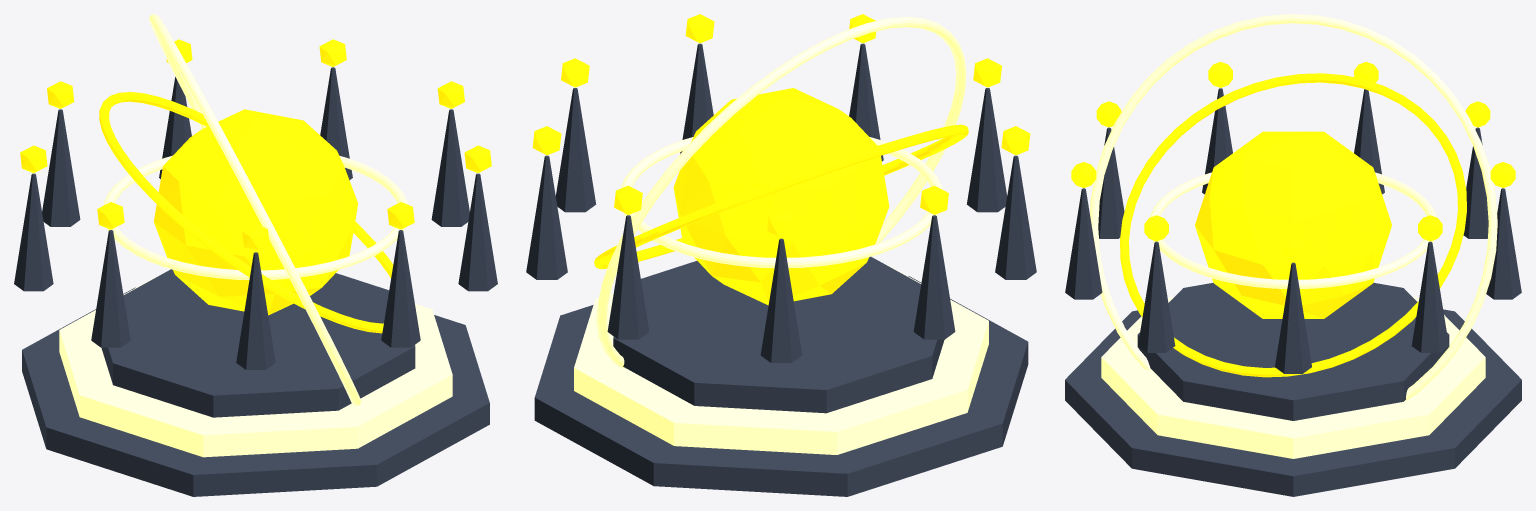
File: gpu-blender-v2.glb
3 views of the same model, side by side, from view 1: azimuth 30°, elevation 25°; view 2: azimuth 150°, elevation 25°; view 3: azimuth 270°, elevation 25° (orthographic). The views are drawn at different scales.
Visible parts, largest first — view 1: Cylinder.002, SovereignCore_producthunt-connector, Cylinder, Cylinder.001, Torus.001, Torus.002, Torus, Cone.004, Cone.008, Cone.005, Cone.007, Cone.006 (+12 smaller); view 2: Cylinder.002, SovereignCore_producthunt-connector, Cylinder, Cylinder.001, Torus.002, Torus.001, Torus, Cone.002, Cone.004, Cone, Cone.001, Cone.005 (+12 smaller); view 3: SovereignCore_producthunt-connector, Cylinder.002, Cylinder, Cylinder.001, Torus.002, Torus.001, Torus, Cone.007, Cone.001, Cone.008, Cone, Cone.002 (+10 smaller).
Boxes of the visible parts, x1,y1,x2,y2 form: Cylinder.002: (101, 269, 415, 417); SovereignCore_producthunt-connector: (153, 109, 358, 315); Cylinder: (22, 287, 489, 496); Cylinder.001: (59, 277, 452, 457); Torus.001: (99, 92, 393, 333); Torus.002: (149, 14, 361, 405); Torus: (103, 155, 408, 279); Cone.004: (14, 173, 53, 291); Cone.008: (458, 173, 497, 291); Cone.005: (91, 230, 130, 347); Cone.007: (381, 230, 420, 347); Cone.006: (236, 252, 275, 369); Cylinder.002: (613, 256, 944, 413); SovereignCore_producthunt-connector: (673, 88, 889, 305); Cylinder: (534, 276, 1028, 496); Cylinder.001: (574, 265, 988, 454); Torus.002: (596, 17, 966, 367); Torus.001: (594, 124, 968, 269); Torus: (621, 137, 942, 268); Cone.002: (607, 215, 649, 339); Cone.004: (913, 215, 955, 339); Cone: (555, 88, 596, 212); Cone.001: (526, 155, 567, 279); Cone.005: (995, 155, 1036, 279); SovereignCore_producthunt-connector: (1195, 131, 1391, 318); Cylinder.002: (1137, 282, 1449, 420); Cylinder: (1065, 309, 1521, 496); Cylinder.001: (1101, 296, 1485, 458); Torus.002: (1090, 14, 1497, 400); Torus.001: (1120, 73, 1466, 377); Torus: (1150, 172, 1436, 288); Cone.007: (1065, 188, 1102, 299); Cone.001: (1411, 241, 1448, 352); Cone.008: (1138, 241, 1175, 352); Cone: (1275, 262, 1311, 373); Cone.002: (1486, 188, 1521, 299).
Bounding box in the file's own units: 4.41 × 3.72 × 4.4.
